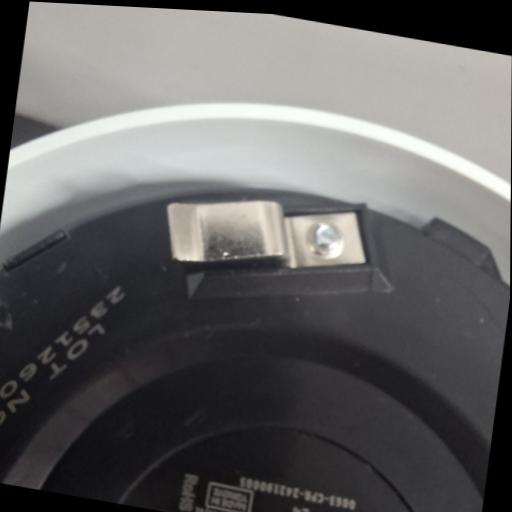yaysiz: (156, 175, 374, 297)
